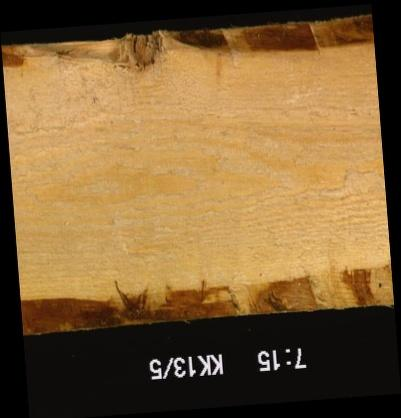wave: (19, 276, 390, 318), (0, 30, 372, 71)
